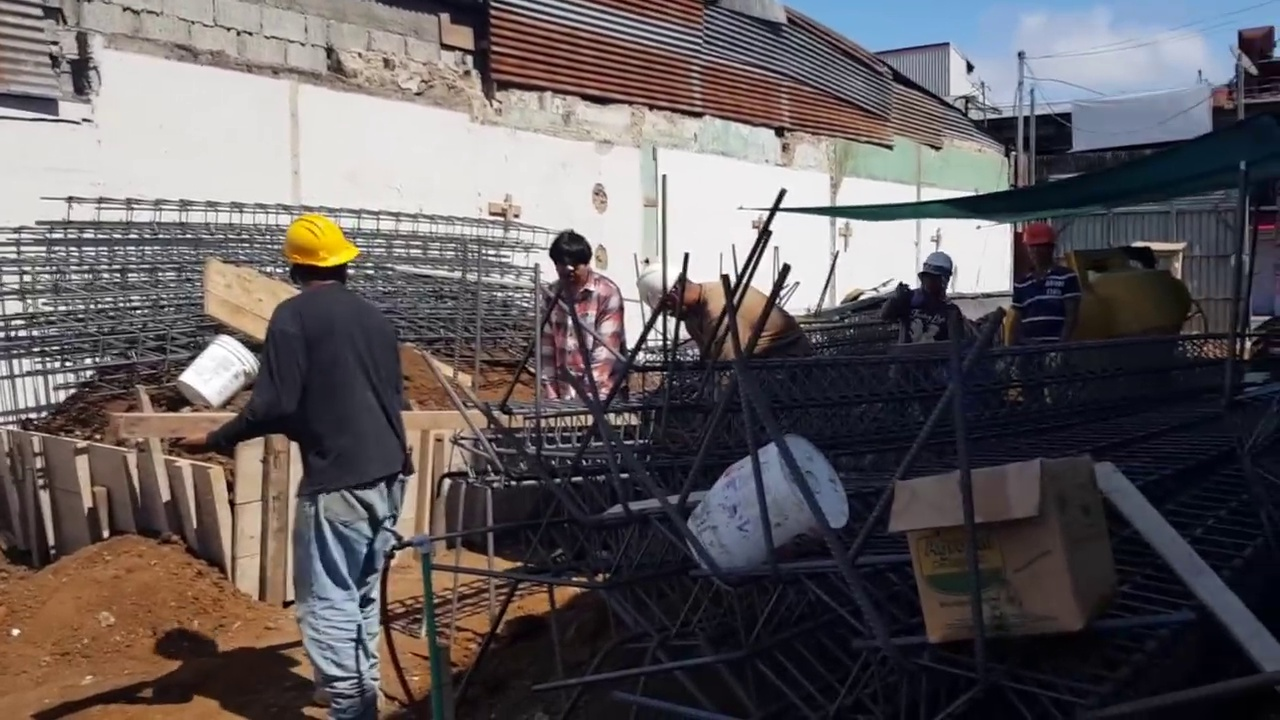helmet: (283, 213, 362, 272), (635, 261, 680, 315), (1022, 220, 1060, 246), (923, 252, 953, 274)
helmet-off: (543, 230, 593, 291)
helmet-on: (283, 219, 364, 301), (635, 261, 706, 325), (1024, 220, 1061, 272), (917, 253, 956, 298)
person: (164, 212, 414, 711), (617, 257, 818, 372), (533, 228, 624, 395), (1019, 221, 1087, 351), (893, 252, 972, 348)
